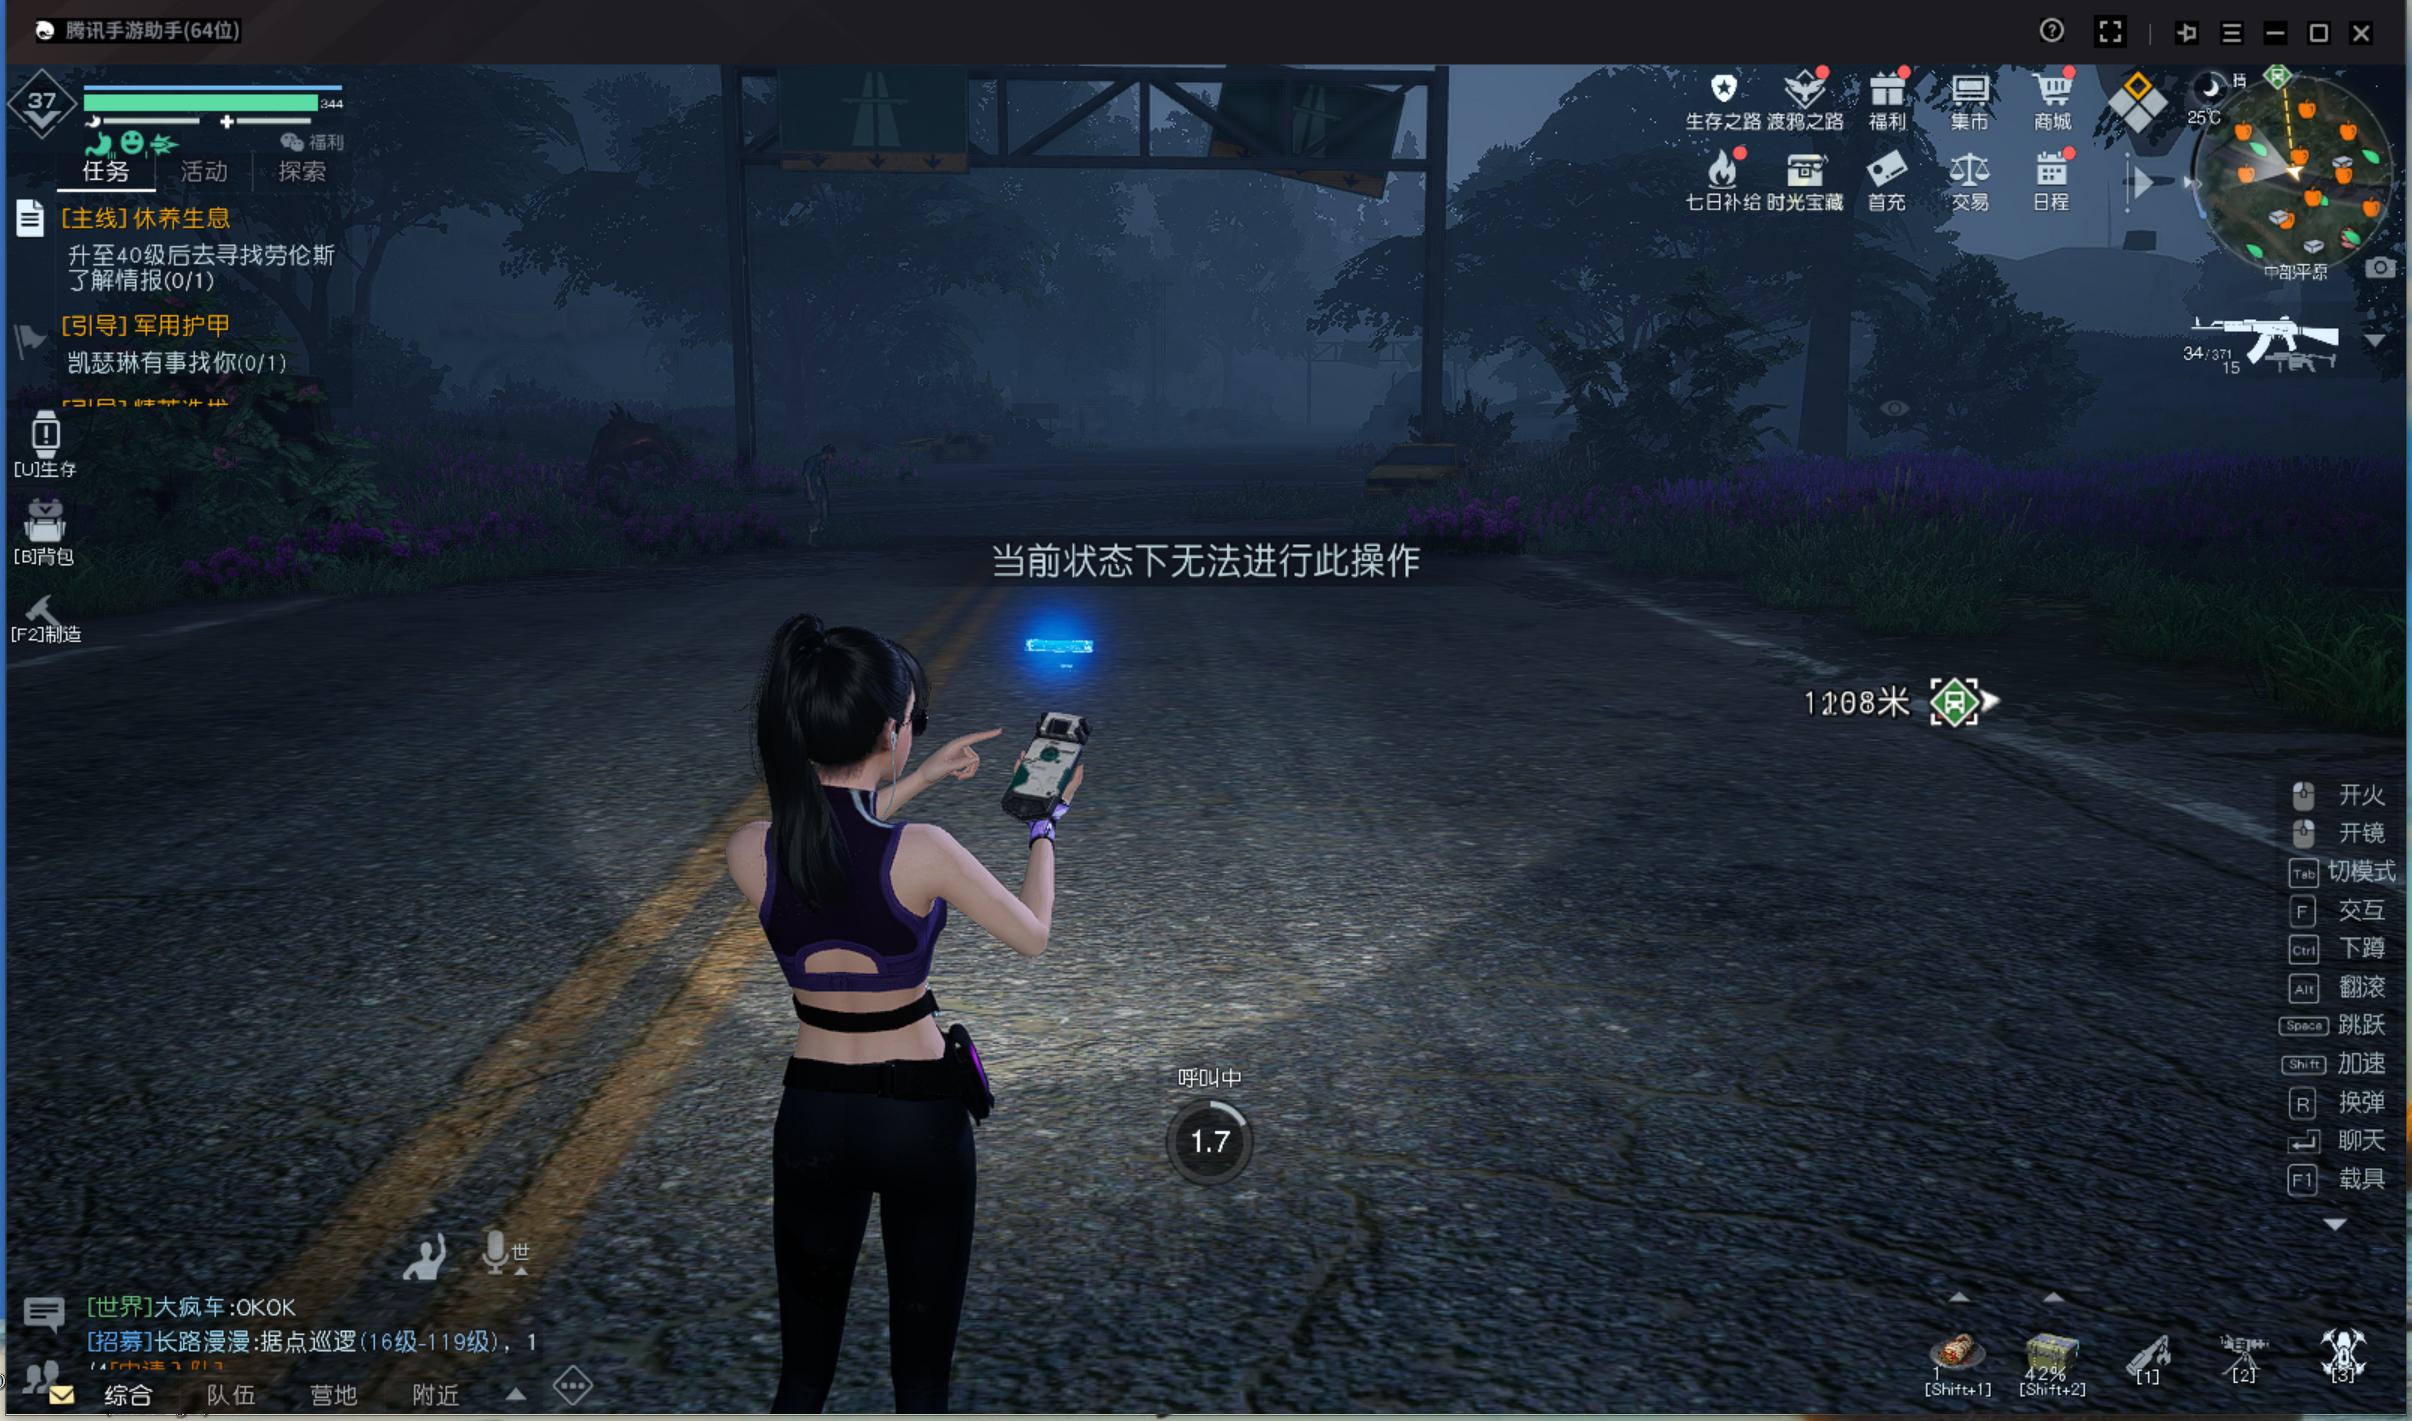tree: (1786, 233, 1861, 486)
